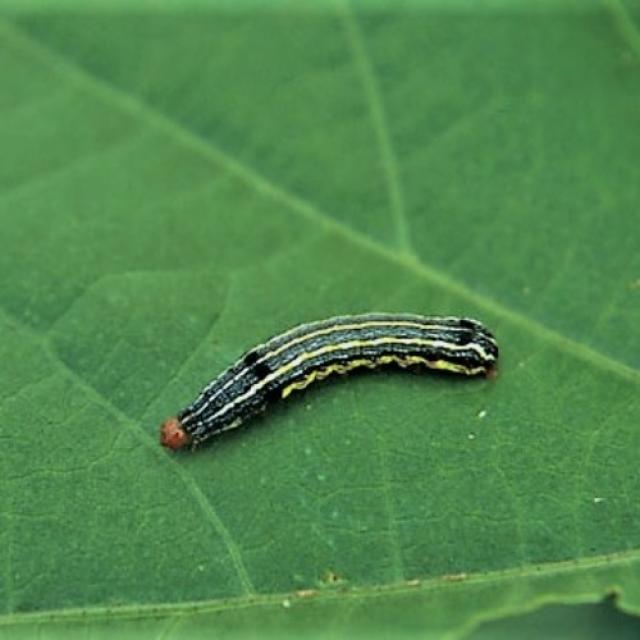armyworm: (158, 310, 500, 453)
